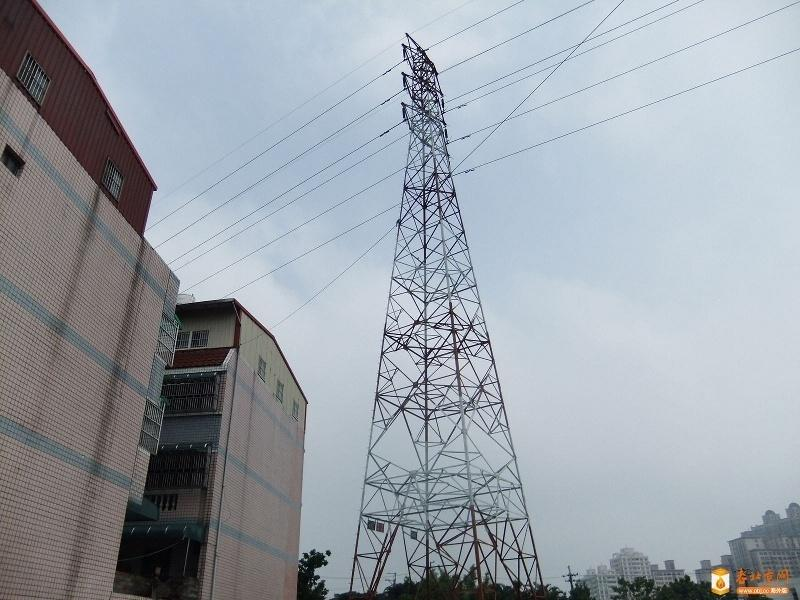power_tower: (349, 25, 558, 585)
